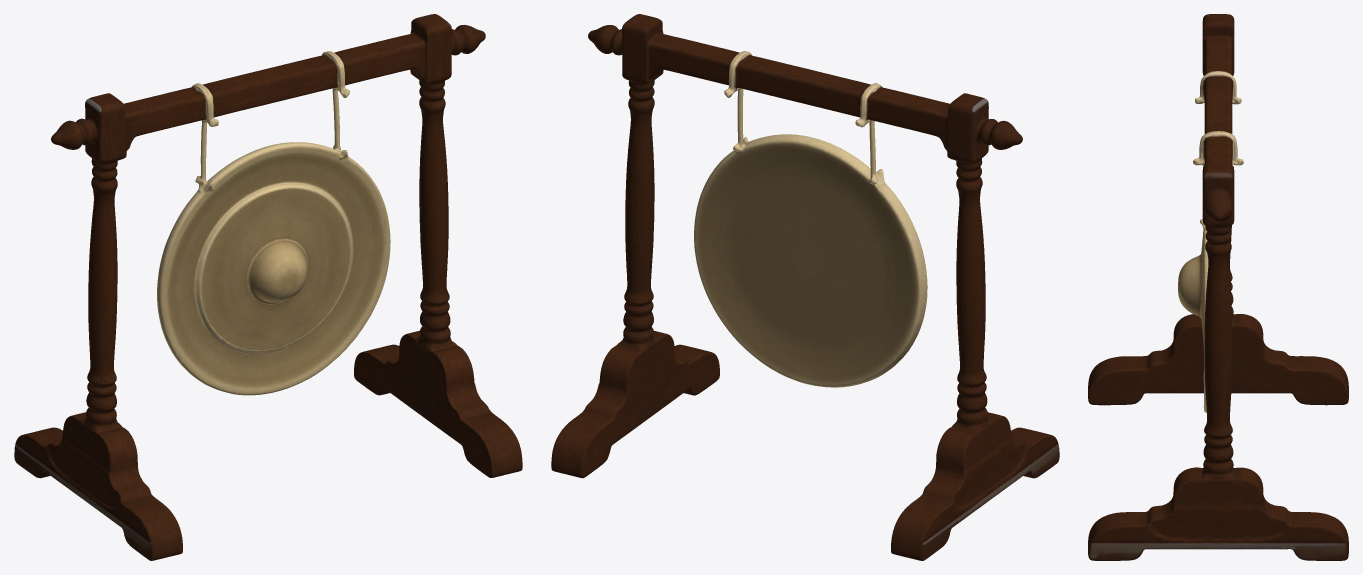
File: gong.glb
3 views of the same model, side by side, from view 1: azimuth 30°, elevation 25°; view 2: azimuth 150°, elevation 25°; view 3: azimuth 270°, elevation 25° (orthographic). The views are drawn at different scales.
Bounding box in the file's own units: 1.9 × 1.71 × 1.05.
Materials: 1 (1 with a texture image).
